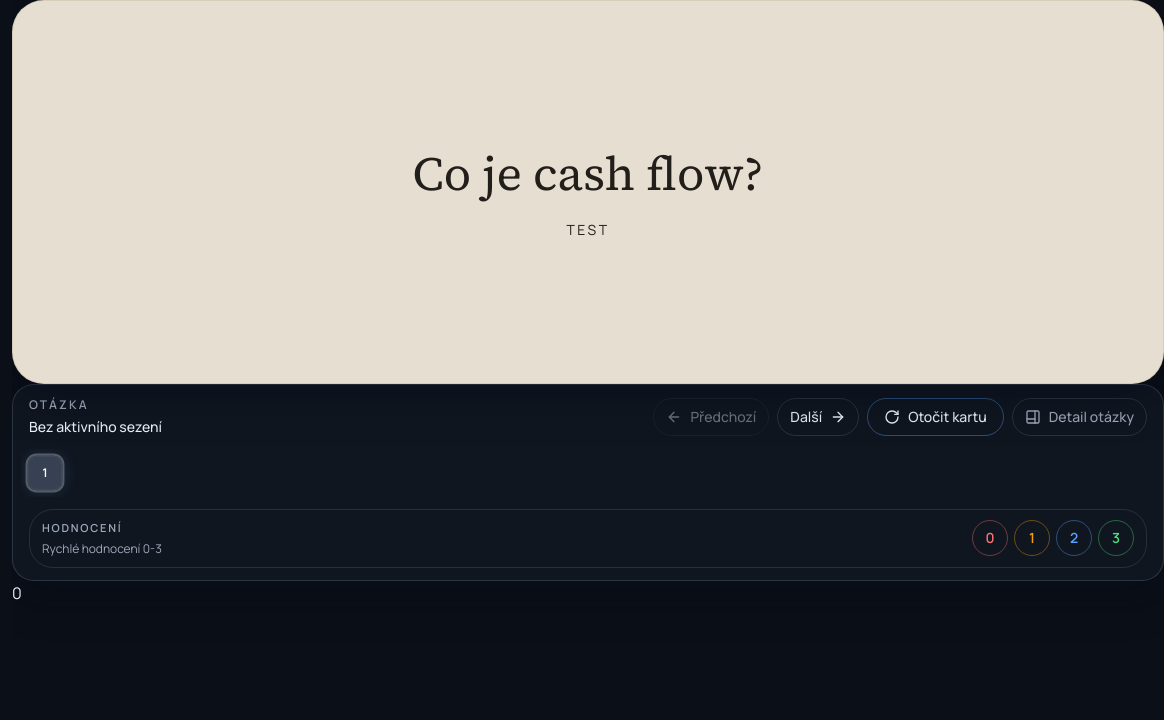
Test case: Flashcard flow › umožní rychlé hodnocení i bez otočení karty
Click the button named "neumím vůbec": (990, 538) [972, 520, 1008, 556]
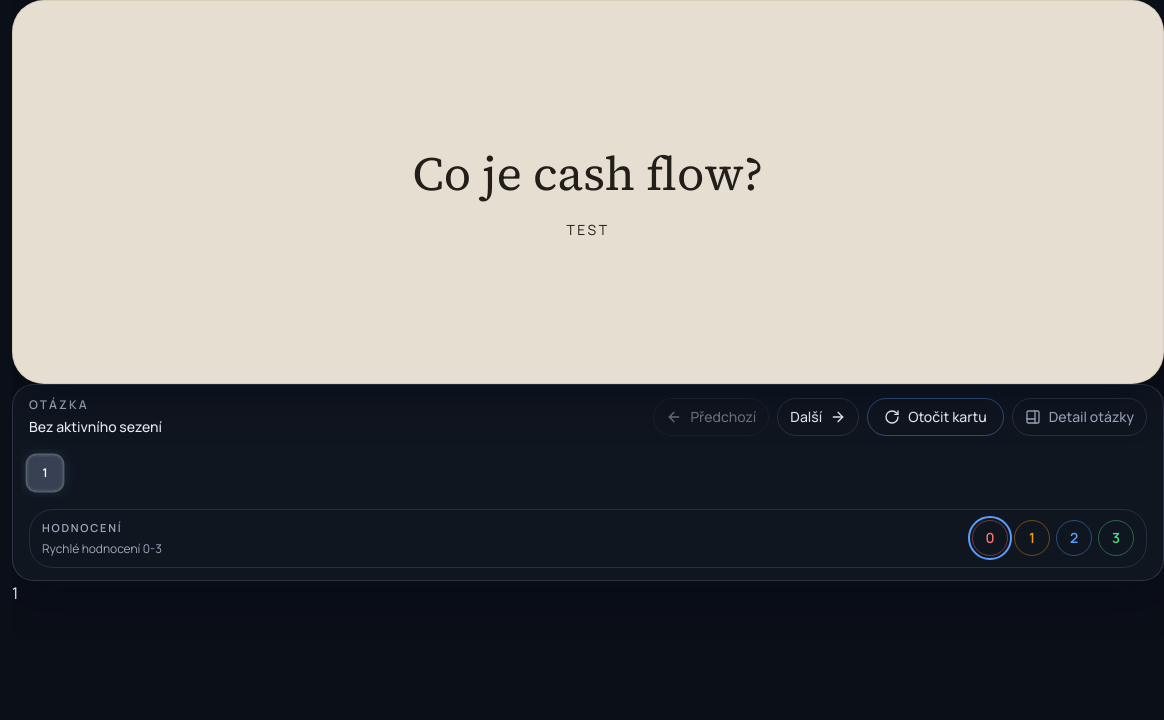
Expected: the text with test id "quick-rated-count" reads "1", [12, 582, 18, 604]
